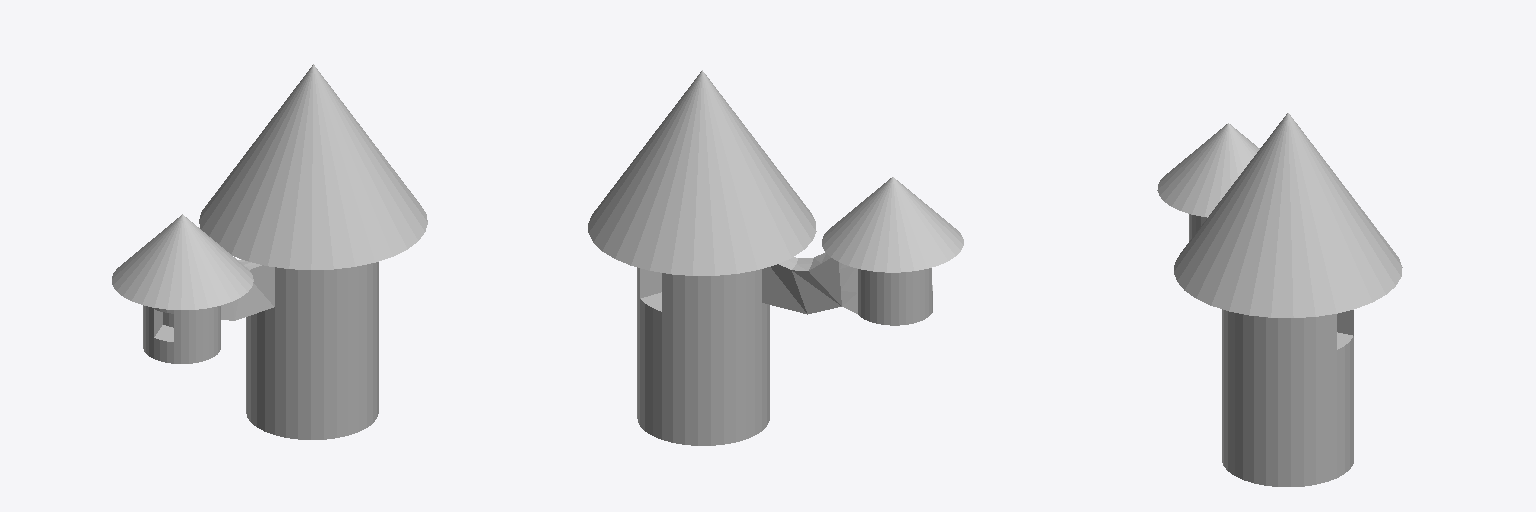
The model's file is keep.obj.
3 renders of one model, left to right at view 1: azimuth 30°, elevation 25°; view 2: azimuth 150°, elevation 25°; view 3: azimuth 270°, elevation 25°, orthographic.
Parts seen in each view (by area): view 1: WizardTower_Cylinder; view 2: WizardTower_Cylinder; view 3: WizardTower_Cylinder.
Boxes of the visible parts, <box> form: WizardTower_Cylinder: <box>112,64,427,439</box>; WizardTower_Cylinder: <box>588,70,963,445</box>; WizardTower_Cylinder: <box>1157,113,1402,486</box>.
Size of the model in its own units: 9.56 by 9.88 by 6.31.